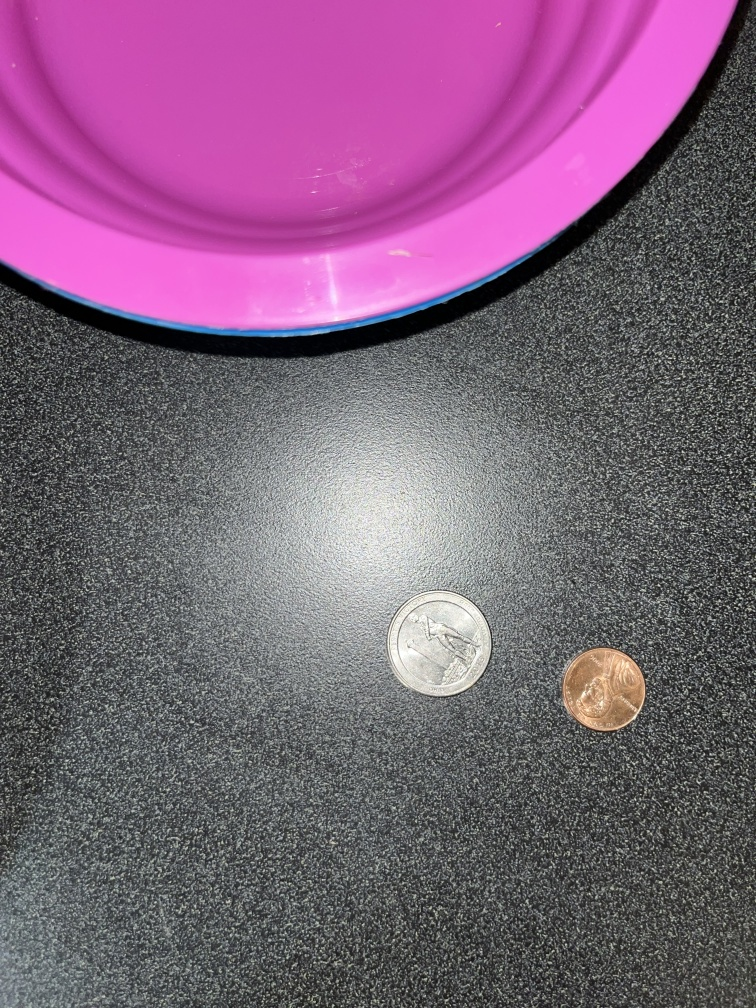penny: (557, 642, 651, 740)
quarter: (385, 587, 498, 701)
